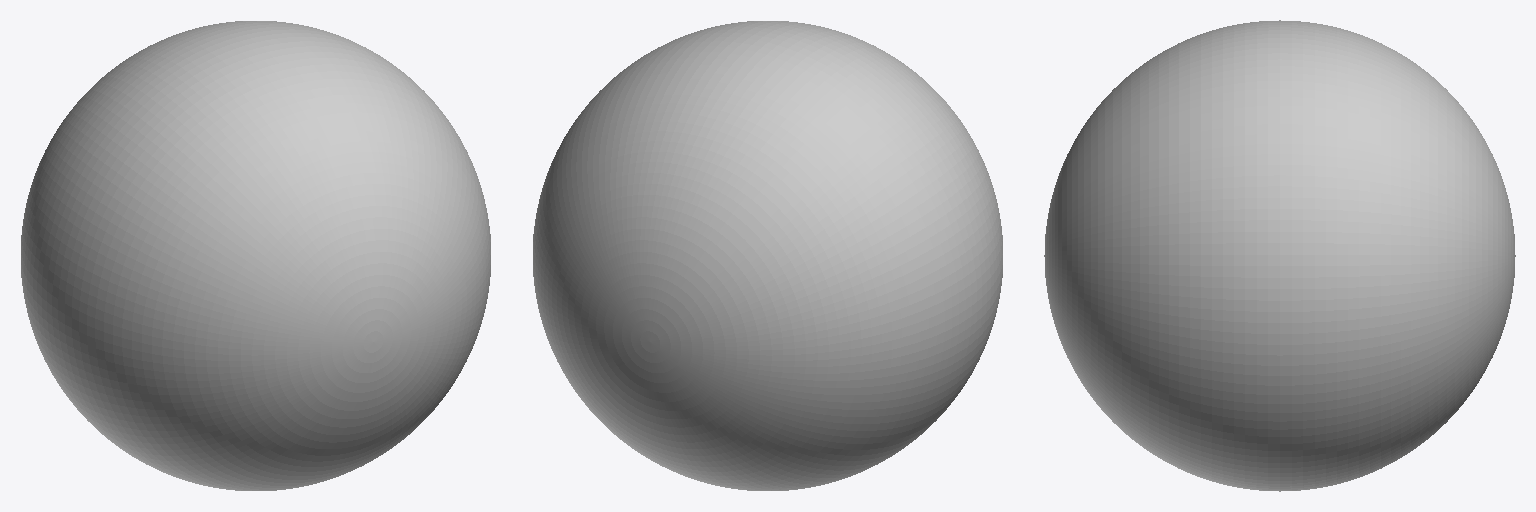
The model's file is earth_cloud.obj.
3 views of the same model, side by side, from view 1: azimuth 30°, elevation 25°; view 2: azimuth 150°, elevation 25°; view 3: azimuth 270°, elevation 25° (orthographic).
Visible parts, largest first — view 1: EarthClouds_Material_#62_0; view 2: EarthClouds_Material_#62_0; view 3: EarthClouds_Material_#62_0.
Part boxes in pixels (x1,y1,x2,y2): EarthClouds_Material_#62_0: (21,21,490,490); EarthClouds_Material_#62_0: (533,21,1002,490); EarthClouds_Material_#62_0: (1044,20,1515,491).
Size of the model in its own units: 10 by 10 by 10.